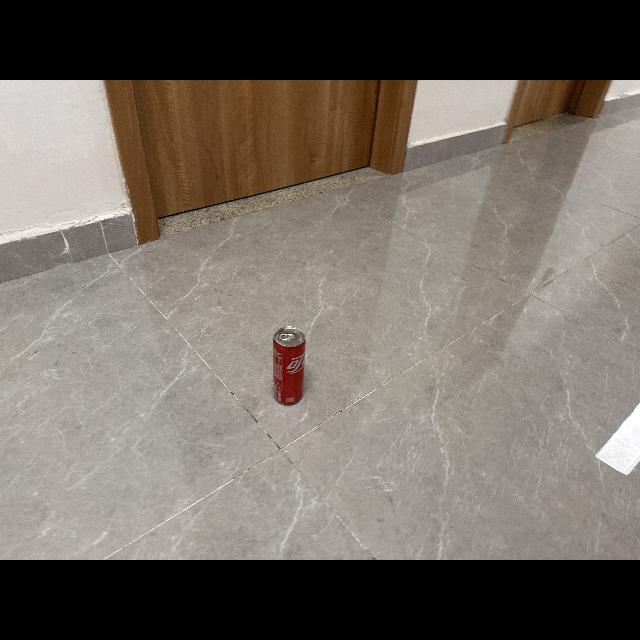Cola: (268, 324, 310, 408)
